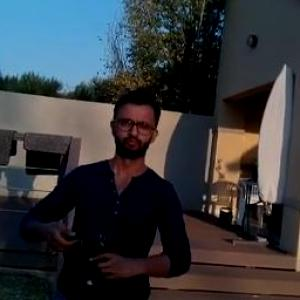follow: (14, 83, 198, 299)
